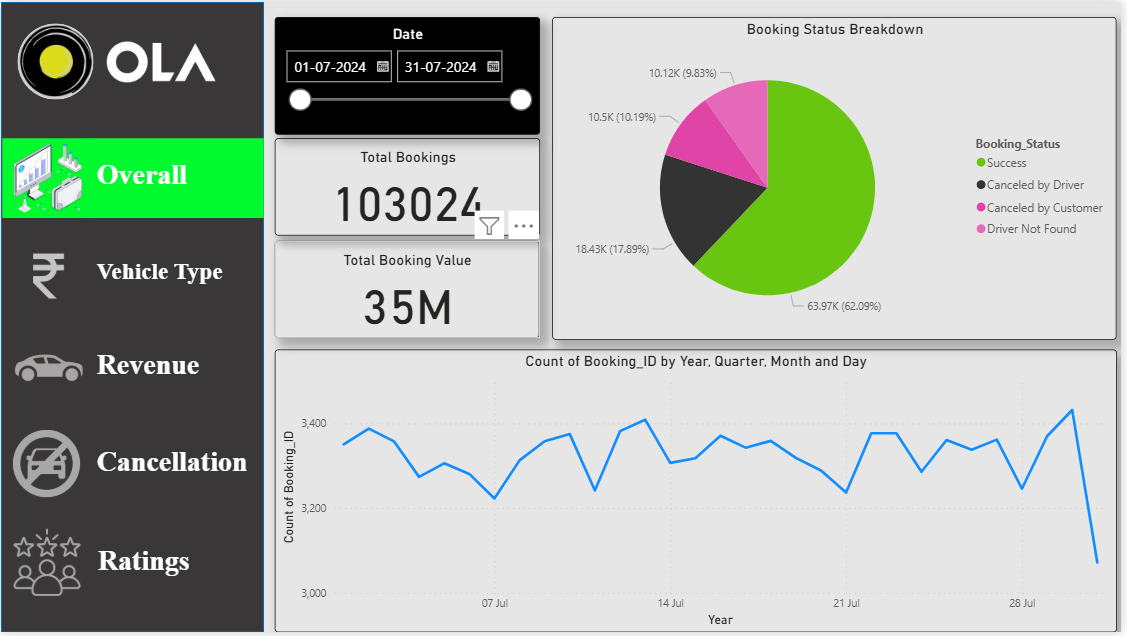

This screenshot's page, from the dashboard's own definition file:
{"tool":"powerbi","page":{"name":"Overall","canvas":[1280,720],"ordinal":0},"visuals":[{"type":"shape","box":[0,0,300.5,720.4],"z":0},{"type":"image","box":[92.5,30,180,87.5],"z":1000},{"type":"shape","box":[18.8,23.8,87.5,87.5],"z":2000},{"type":"image","box":[12.5,21.2,100,92.5],"z":3000},{"type":"textbox","box":[104.3,155.7,195.7,91.4],"z":4000},{"type":"textbox","box":[104.3,270,195.7,87.1],"z":5000},{"type":"textbox","box":[104.3,372.9,195.7,91.4],"z":6000},{"type":"textbox","box":[104.3,484.4,196.2,86.4],"z":7000},{"type":"textbox","box":[105.7,597.1,194.3,85.7],"z":8000},{"type":"image","box":[1.4,155.7,104.3,91.4],"z":9000},{"type":"image","box":[0,270.3,112.5,86.4],"z":10000},{"type":"image","box":[1.4,373.2,107,90.6],"z":11000},{"type":"image","box":[0,484.4,104.3,86.4],"z":12000},{"type":"image","box":[1.4,596.9,102.9,86.4],"z":13000},{"type":"actionButton","box":[1.4,270,300,91.4],"z":14000},{"type":"actionButton","box":[0,371.4,301.4,91.4],"z":15000},{"type":"actionButton","box":[0,481.4,300,91.4],"z":16000},{"type":"actionButton","box":[0,597.1,301.4,91.4],"z":17000},{"type":"actionButton","box":[0,155.7,300,92.9],"z":18000},{"type":"pieChart","title":"Booking Status Breakdown","fields":{"Category":["Bookings.Booking_Status"],"Y":["CountNonNull(Bookings.Booking_Status)"]},"box":[629.8,16.5,644.9,369.1],"z":19000},{"type":"slicer","title":"Date","fields":{"Values":["Bookings.Date"]},"box":[312.9,16.5,303.3,134.5],"z":20000},{"type":"card","title":"Total Bookings","fields":{"Values":["CountNonNull(Bookings.Booking_ID)"]},"box":[313.6,156.1,303.5,111.3],"z":21000},{"type":"card","title":"Total Booking Value","fields":{"Values":["Sum(Bookings.Booking_Value)"]},"box":[313.6,273.1,302,111.3],"z":22000},{"type":"lineChart","fields":{"Y":["CountNonNull(Bookings.Booking_ID)"],"Category":["Bookings.Date.Variation.Date Hierarchy.Year","Bookings.Date.Variation.Date Hierarchy.Quarter","Bookings.Date.Variation.Date Hierarchy.Month","Bookings.Date.Variation.Date Hierarchy.Day"]},"box":[312.6,396.6,962.1,323],"z":23000}]}

Visuals, with their boxes in screenshot pixels (x1, y1, x2, y2), scaled from the page's 1280x720 canvas onto the 1127x636 screenshot:
shape: {"left": 0, "top": 0, "right": 265, "bottom": 635}
image: {"left": 81, "top": 26, "right": 240, "bottom": 104}
shape: {"left": 17, "top": 21, "right": 94, "bottom": 98}
image: {"left": 11, "top": 19, "right": 99, "bottom": 100}
textbox: {"left": 92, "top": 138, "right": 264, "bottom": 218}
textbox: {"left": 92, "top": 238, "right": 264, "bottom": 315}
textbox: {"left": 92, "top": 329, "right": 264, "bottom": 410}
textbox: {"left": 92, "top": 428, "right": 265, "bottom": 504}
textbox: {"left": 93, "top": 527, "right": 264, "bottom": 603}
image: {"left": 1, "top": 138, "right": 93, "bottom": 218}
image: {"left": 0, "top": 239, "right": 99, "bottom": 315}
image: {"left": 1, "top": 330, "right": 95, "bottom": 410}
image: {"left": 0, "top": 428, "right": 92, "bottom": 504}
image: {"left": 1, "top": 527, "right": 92, "bottom": 604}
actionButton: {"left": 1, "top": 238, "right": 265, "bottom": 319}
actionButton: {"left": 0, "top": 328, "right": 265, "bottom": 409}
actionButton: {"left": 0, "top": 425, "right": 264, "bottom": 506}
actionButton: {"left": 0, "top": 527, "right": 265, "bottom": 608}
actionButton: {"left": 0, "top": 138, "right": 264, "bottom": 220}
"Booking Status Breakdown" pieChart: {"left": 555, "top": 15, "right": 1122, "bottom": 341}
"Date" slicer: {"left": 275, "top": 15, "right": 543, "bottom": 133}
"Total Bookings" card: {"left": 276, "top": 138, "right": 543, "bottom": 236}
"Total Booking Value" card: {"left": 276, "top": 241, "right": 542, "bottom": 340}
lineChart - CountNonNull(Bookings.Booking_ID) x Bookings.Date.Variation.Date Hierarchy.Year: {"left": 275, "top": 350, "right": 1122, "bottom": 635}
